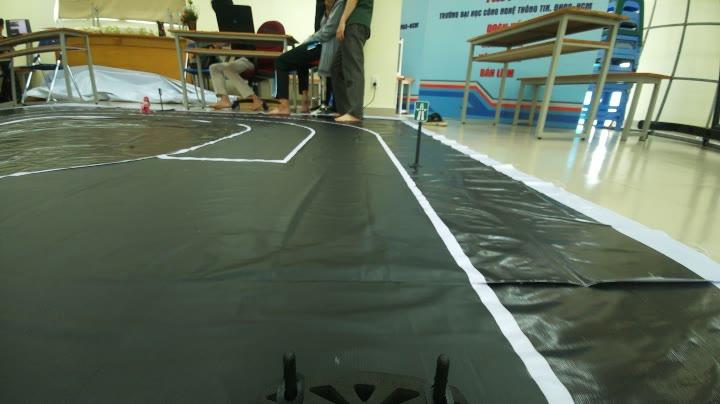highway_entry: (412, 94, 434, 125)
